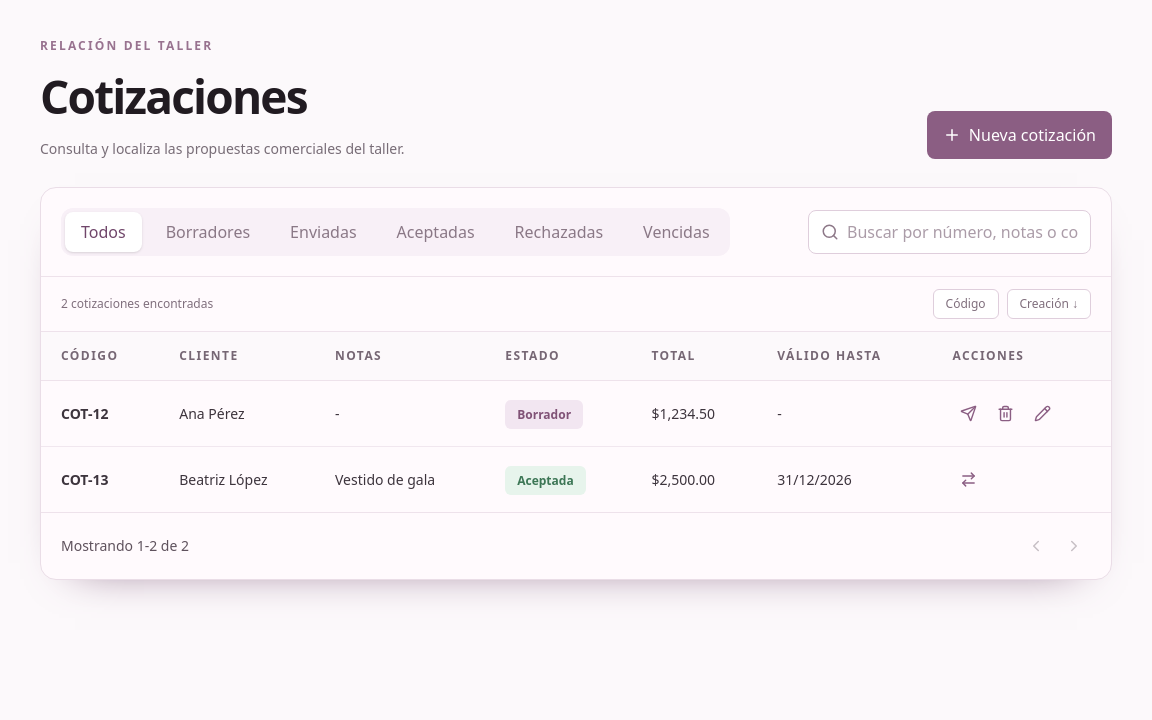
it: QuotesPage › does not convert when the stage selection is cancelled
The width and height of the screenshot is (1152, 720).
expect the text "COT-13" is shown: met, box [61,470,108,488]
What coordinates should you click on to do the following:
click the button named "Convertir en pedido"
I would click on:
 (969, 480)
Its box is [952,463,986,496].
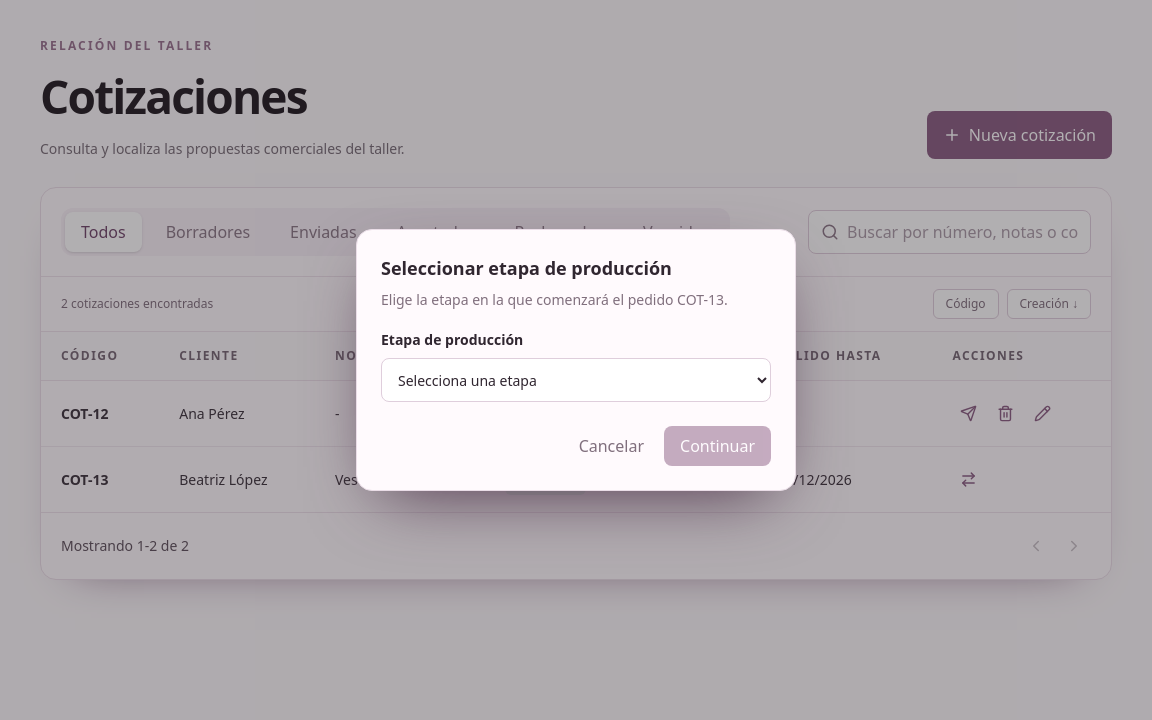
expect the dropdown labelled "Etapa de producción" is shown: met, box [381,358,771,402]
What coordinates should you click on to do the following:
click the button "Cancelar"
I would click on:
 (611, 446)
Its box is [567,426,656,466].
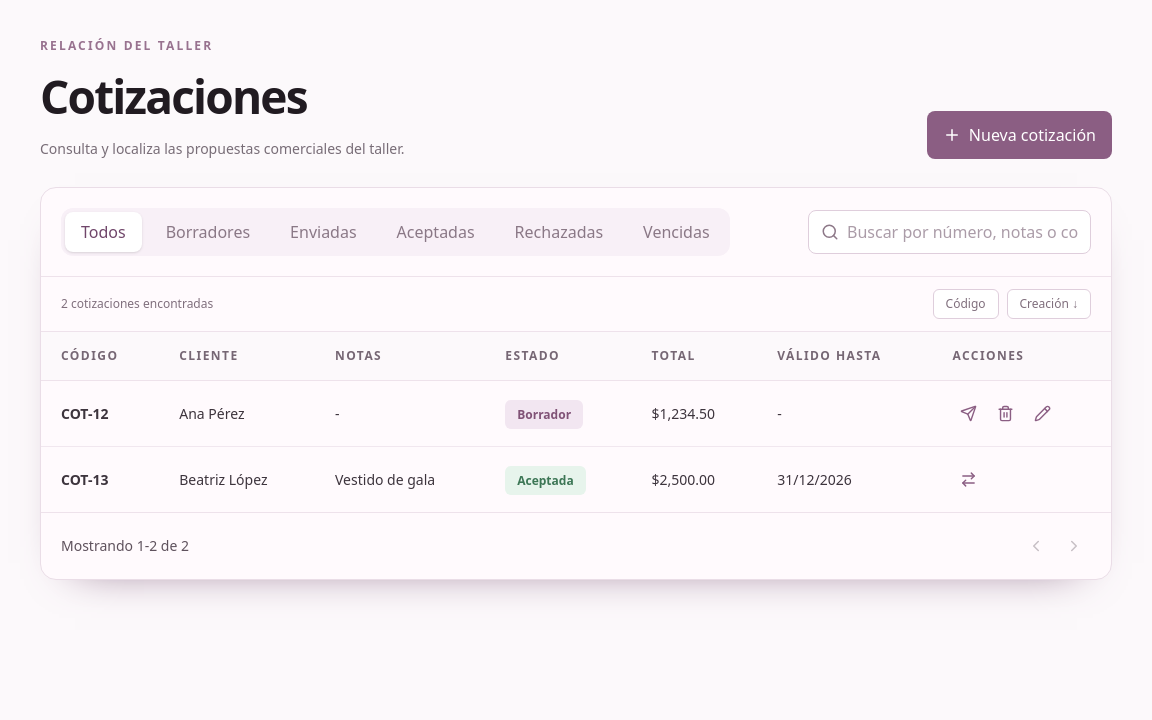
expect the dialog is gone: met
